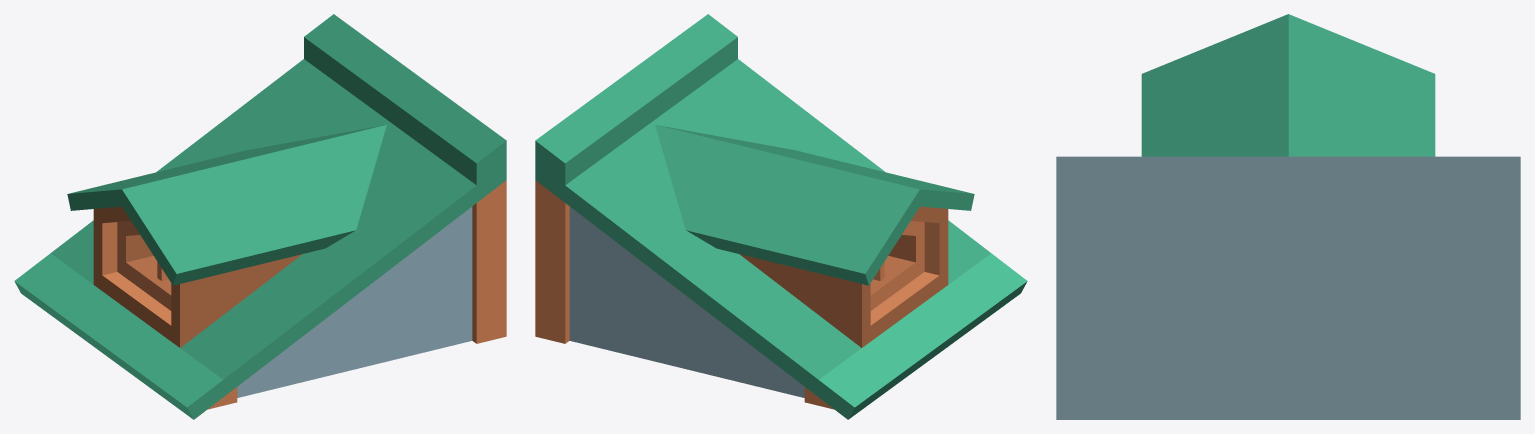
The model's file is roofWindow.fbx.
3 renders of one model, left to right at view 1: azimuth 30°, elevation 25°; view 2: azimuth 150°, elevation 25°; view 3: azimuth 270°, elevation 25°, orthographic. The views are drawn at different scales.
Parts seen in each view (by area): view 1: roofWindow; view 2: roofWindow; view 3: roofWindow.
Part boxes in pixels (x1=…): roofWindow: x1=14, y1=14, x2=506, y2=419; roofWindow: x1=535, y1=14, x2=1027, y2=419; roofWindow: x1=1056, y1=14, x2=1520, y2=419.
Bounding box in the file's own units: 10.67 × 6.48 × 10.
